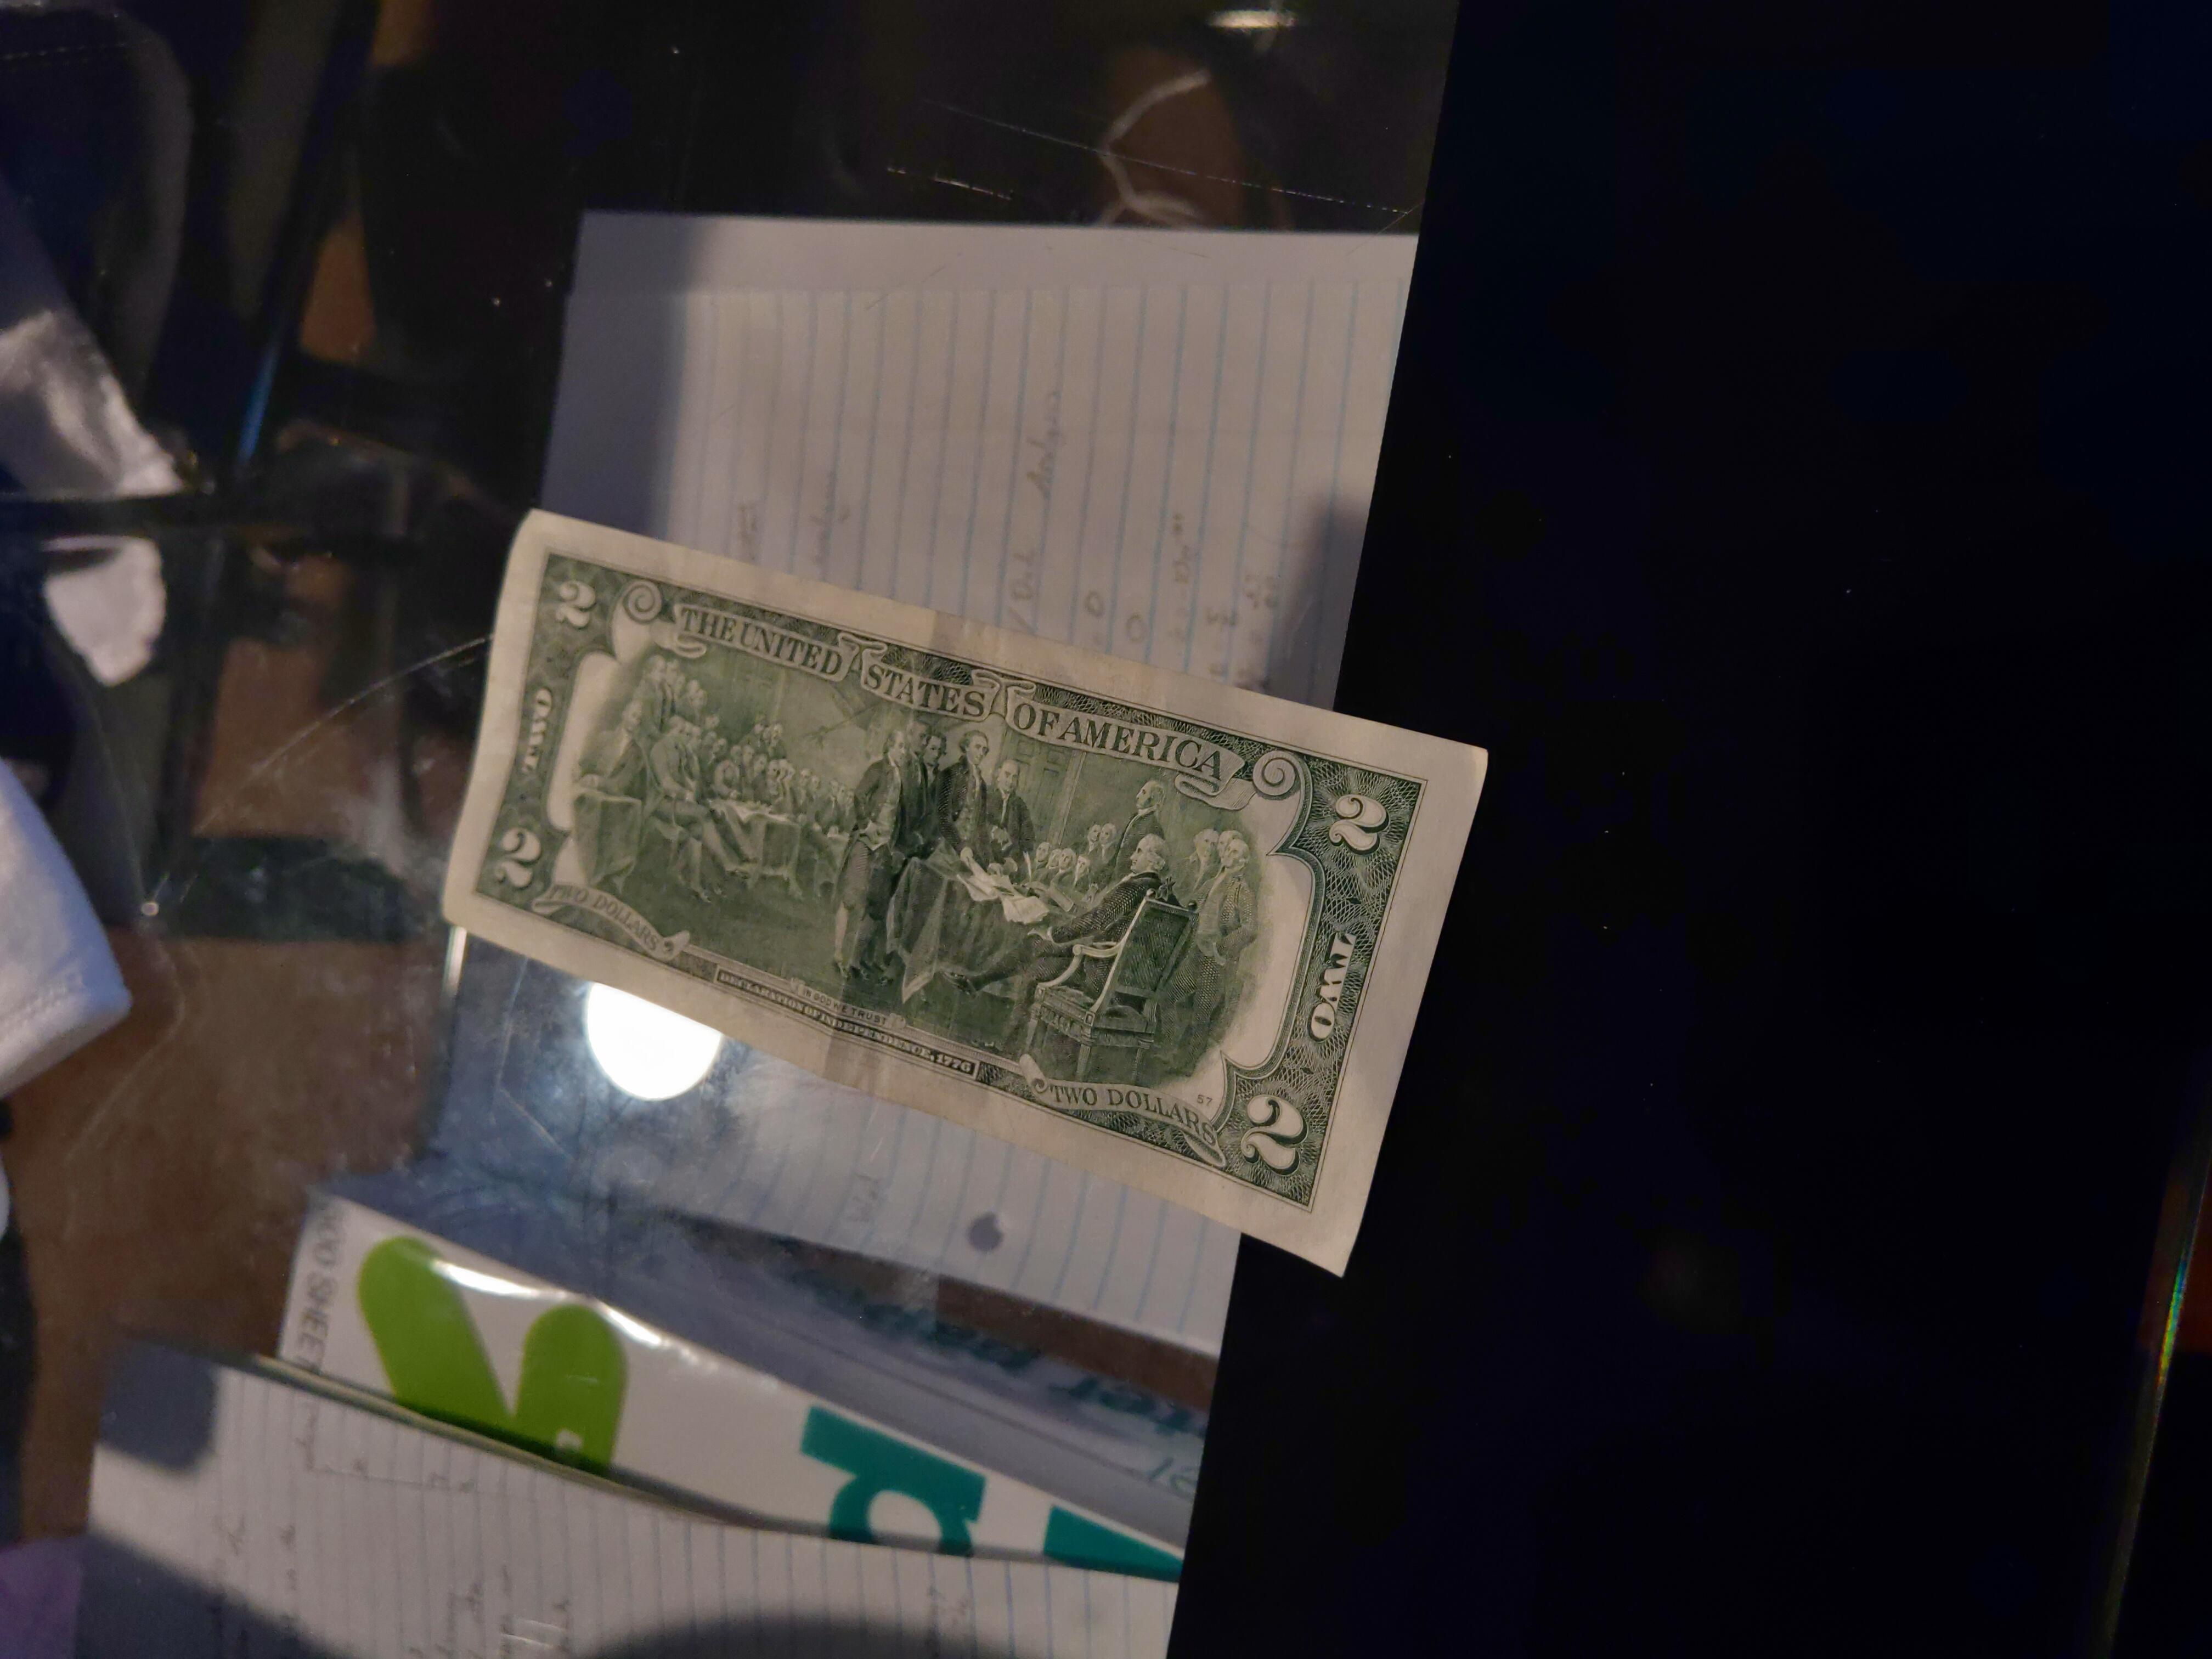TwoBill: (439, 500, 1498, 1283)
